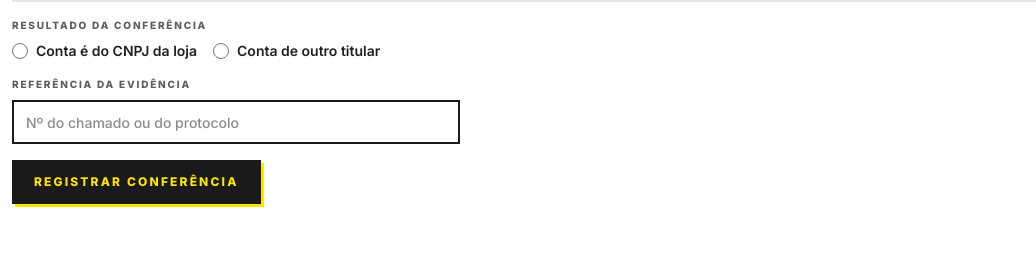
Scenario: VendorMercadoPagoIdentityForm › exige a referência da evidência antes de qualquer envio
Step 1. Click the radio button labelled "Conta é do CNPJ da loja" → (20, 51), box [12,43,28,59]
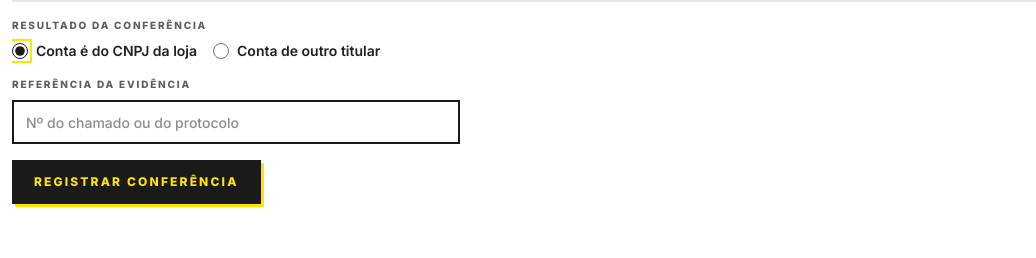
Step 2. Click the button "Registrar conferência" → (136, 182), box [12,160,260,204]
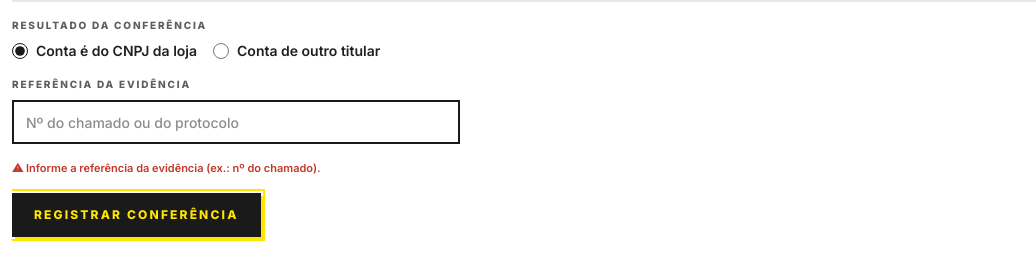
Check: the text "⚠ Informe a referência da evidência (ex.: nº do chamado)." is shown, box [12,161,320,175]
